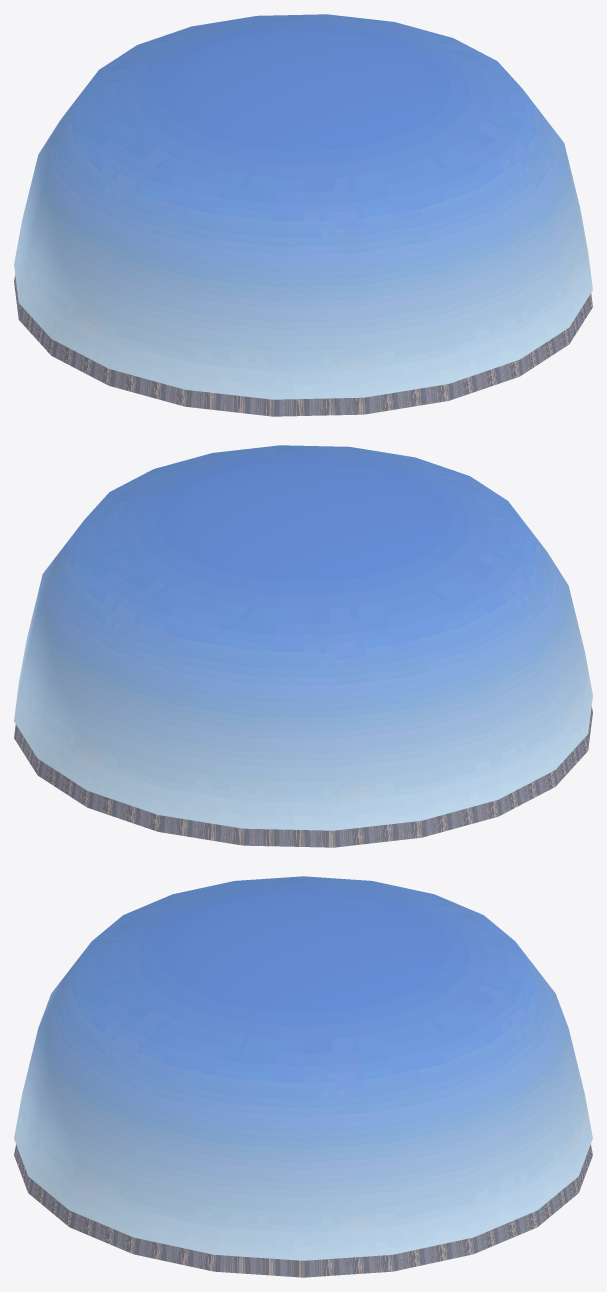
Rendered from stage-sequ-sky.glb.
The picture shows the model from 3 angles, top to bottom: view 1: azimuth 30°, elevation 25°; view 2: azimuth 150°, elevation 25°; view 3: azimuth 270°, elevation 25°; orthographic projection.
Visible parts, largest first — view 1: sky; view 2: sky; view 3: sky.
Part boxes in pixels (x1,y1,x2,y2): sky: (14,14,592,416); sky: (14,445,592,847); sky: (14,876,592,1277).
Bounding box in the file's own units: 3660 × 1545 × 3660.
3 materials, 3 textured.
